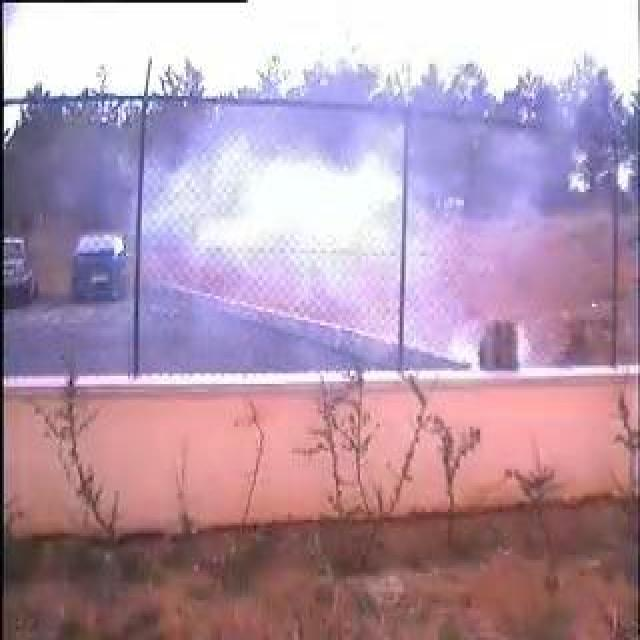Smoke: (159, 129, 551, 351)
